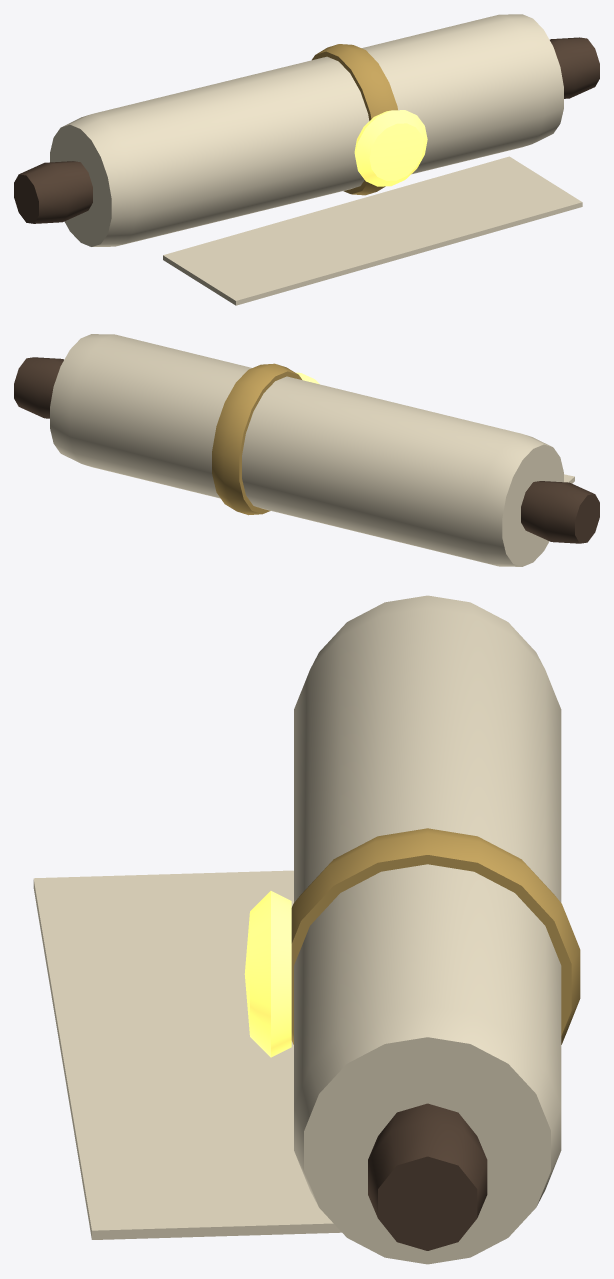
The model's file is recipe_fortune.glb.
3 renders of one model, top to bottom at view 1: azimuth 30°, elevation 25°; view 2: azimuth 150°, elevation 25°; view 3: azimuth 270°, elevation 25°, orthographic. The views are drawn at different scales.
Parts seen in each view (by area): view 1: recipe_fortune; view 2: recipe_fortune; view 3: recipe_fortune.
Boxes of the visible parts, bbox=[...] form: recipe_fortune: bbox=[14, 14, 599, 305]; recipe_fortune: bbox=[14, 334, 599, 566]; recipe_fortune: bbox=[33, 595, 580, 1264].
Bounding box in the file's own units: 0.248 × 0.0594 × 0.1046.
